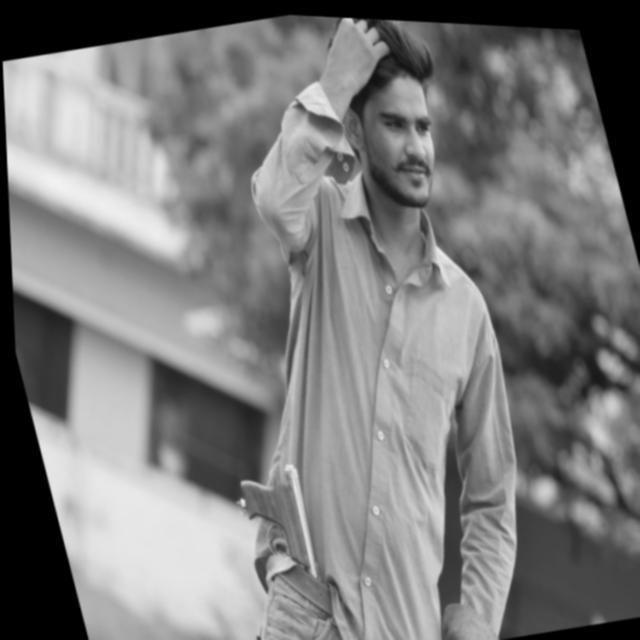weapon: (221, 452, 336, 632)
